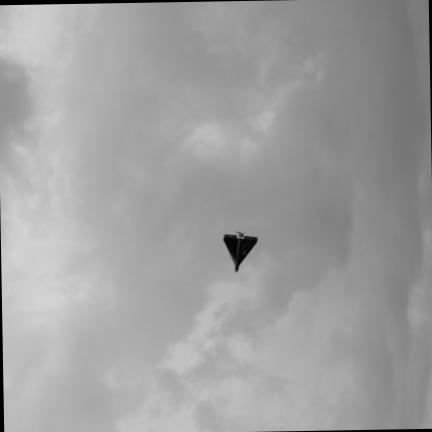Shahed: (223, 232, 256, 270)
